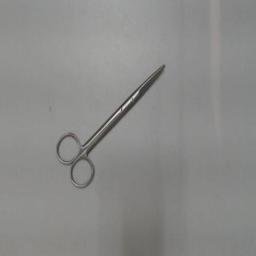Curved Mayo Scissors: (52, 59, 168, 193)
